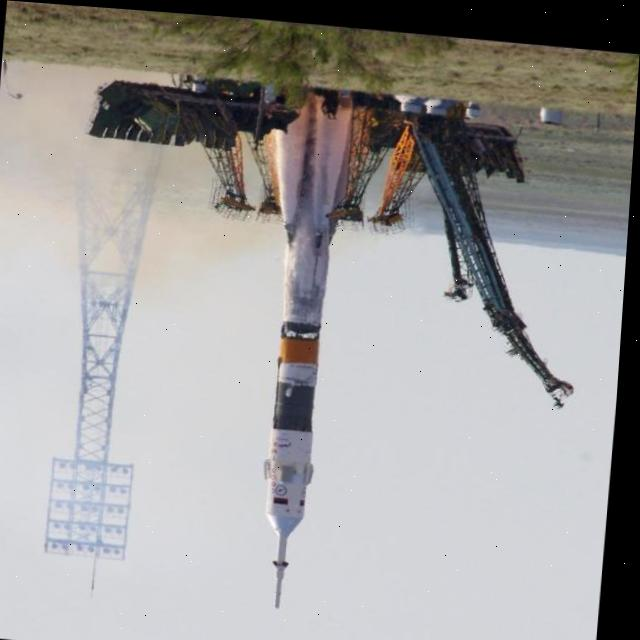missile: (218, 80, 372, 613)
